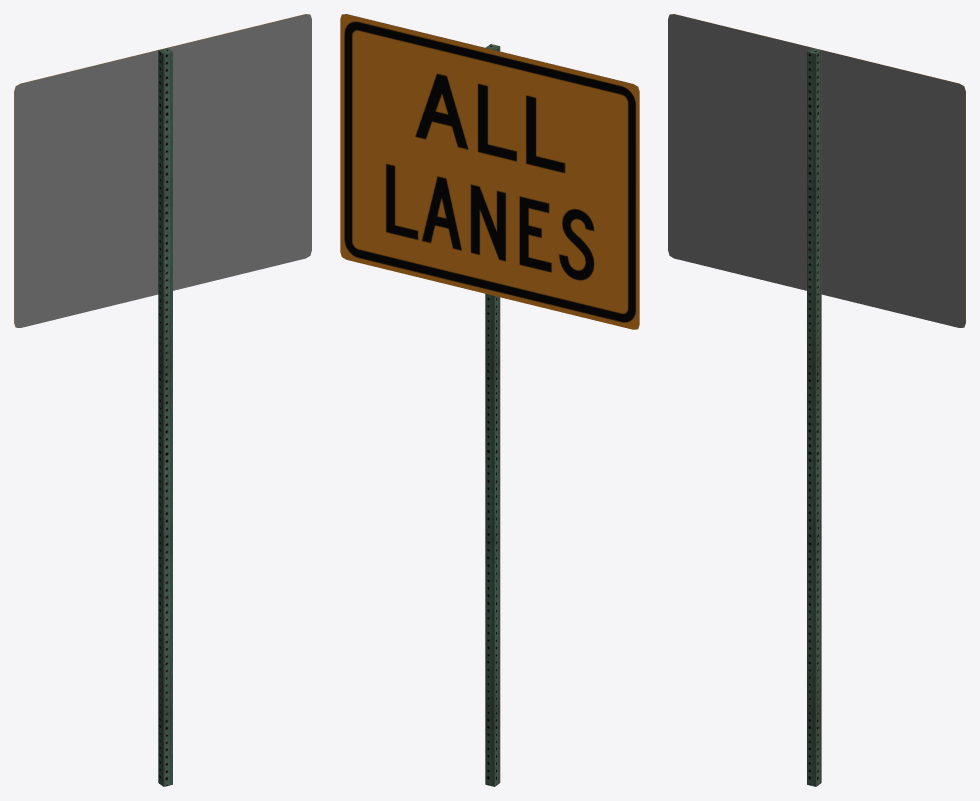
The model's file is GSDSign617.FBX.
The picture shows the model from 3 angles, left to right: view 1: azimuth 30°, elevation 25°; view 2: azimuth 150°, elevation 25°; view 3: azimuth 330°, elevation 25°; orthographic projection.
Parts seen in each view (by area): view 1: GSDSign617; view 2: GSDSign617; view 3: GSDSign617.
Part boxes in pixels (x1,y1,x2,y2): GSDSign617: (14,14,311,786); GSDSign617: (340,14,639,786); GSDSign617: (668,14,965,786).
Bounding box in the file's own units: 0.9564 × 2.25 × 0.031.
Materials: 1 (1 with a texture image).
